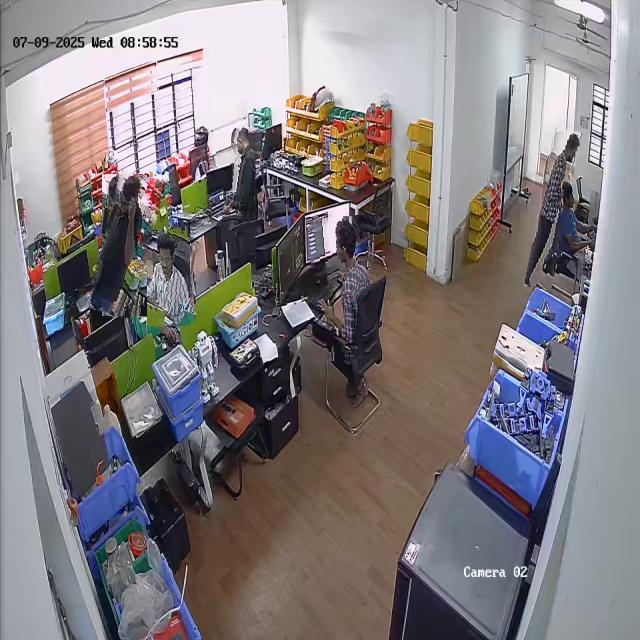person: (310, 215, 378, 360), (94, 172, 157, 318), (532, 127, 574, 291), (144, 229, 193, 327), (224, 126, 262, 233), (562, 180, 594, 250)
